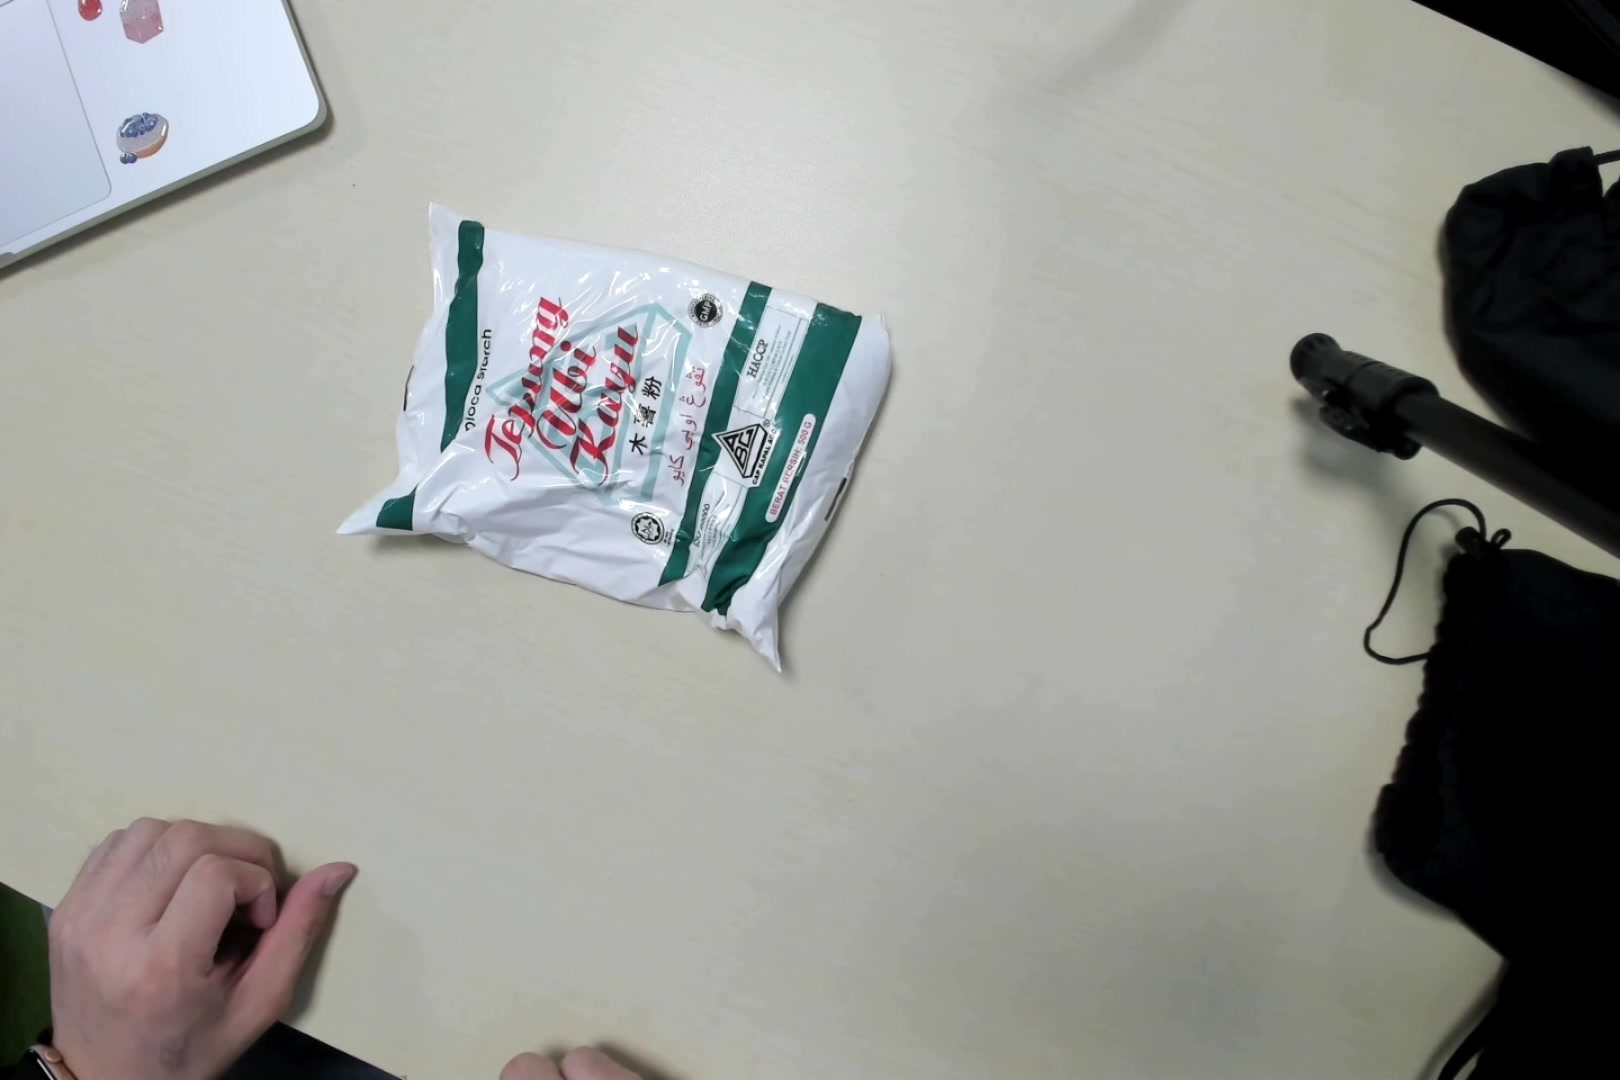Flour_500-599g_Halal_NonHealthy: (372, 209, 892, 636)
